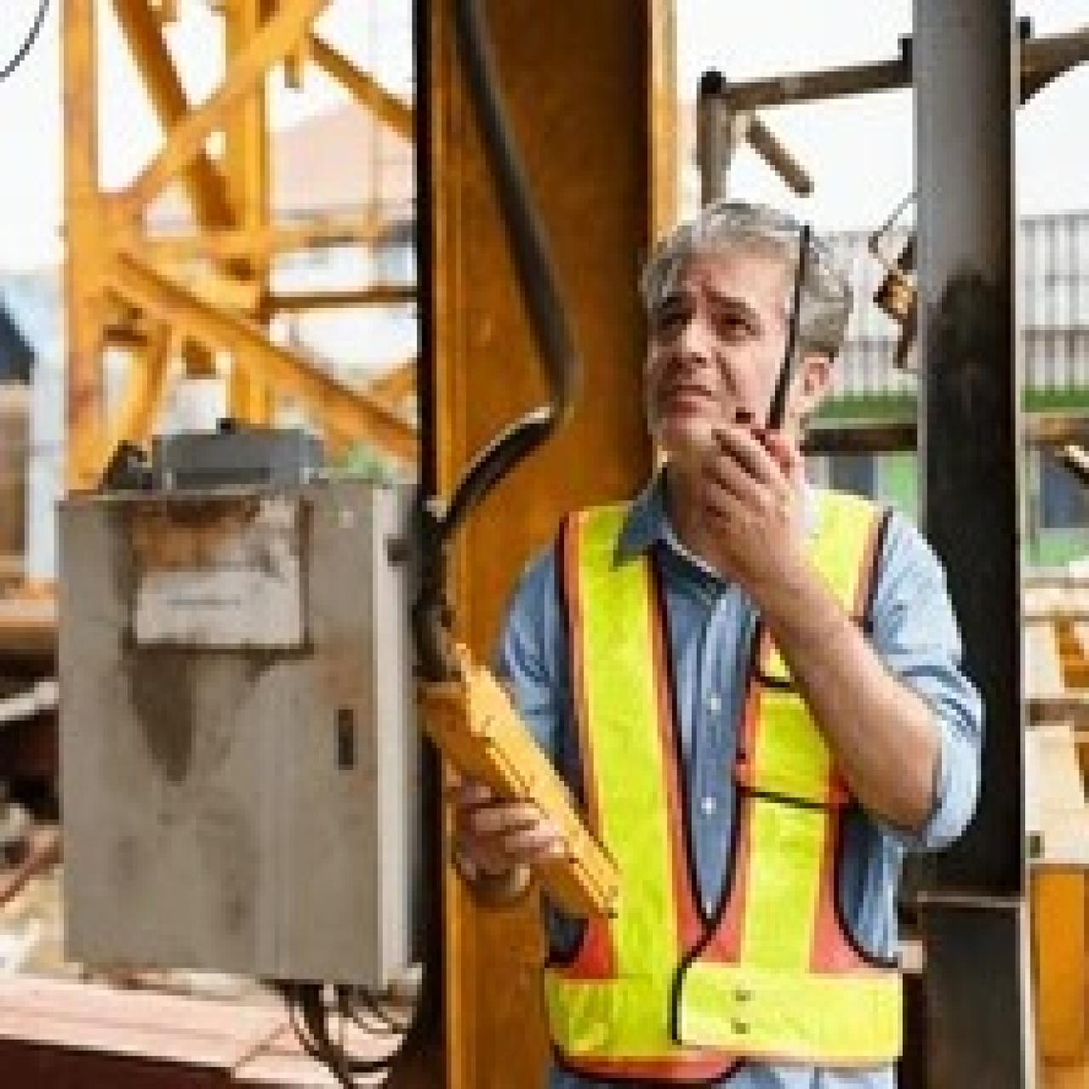Person: (451, 181, 996, 1089)
Safety_Vest: (538, 471, 908, 1066)
